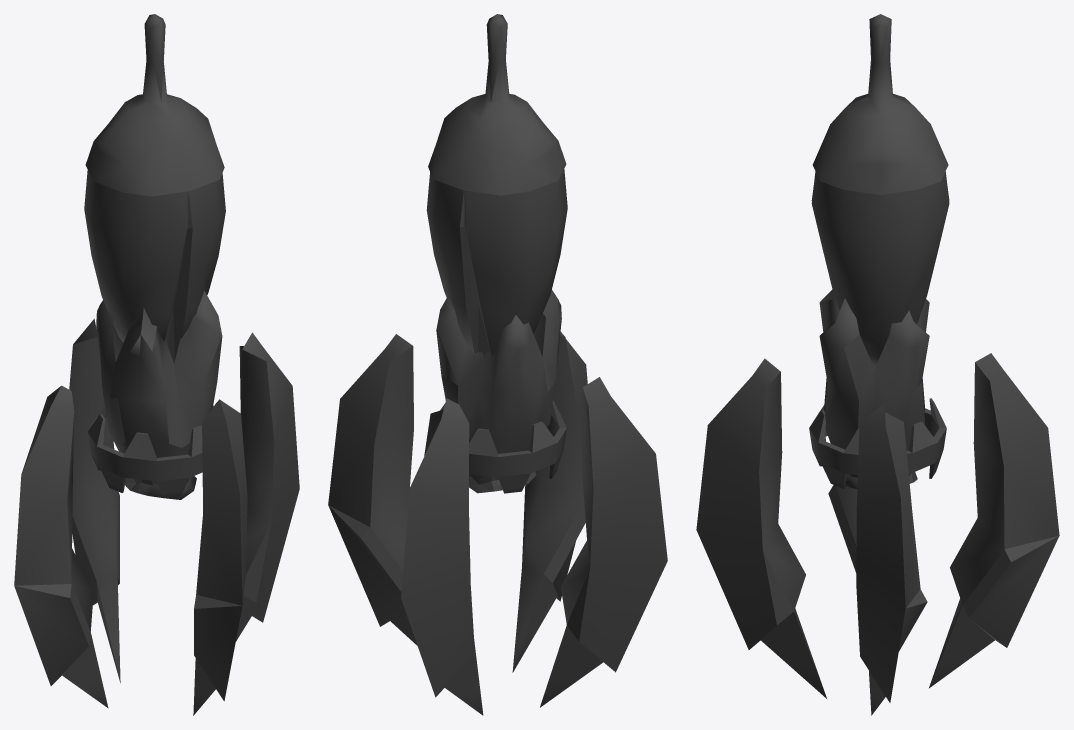
The model's file is Spaceship.FBX.
3 renders of one model, left to right at view 1: azimuth 30°, elevation 25°; view 2: azimuth 150°, elevation 25°; view 3: azimuth 270°, elevation 25°, orthographic.
Visible parts, largest first — view 1: Legs, Body, Rotator; view 2: Legs, Body, Rotator; view 3: Legs, Body, Rotator.
Part boxes in pixels (x1,y1,x2,y2): Legs: (14, 318, 299, 715); Body: (84, 14, 225, 499); Rotator: (87, 405, 213, 497); Legs: (328, 332, 667, 715); Body: (426, 14, 567, 493); Rotator: (440, 400, 566, 493); Legs: (696, 353, 1059, 715); Body: (811, 14, 949, 488); Rotator: (809, 398, 946, 488).
Size of the model in its own units: 21.01 by 43.88 by 21.24.
Materials: 1 (1 with a texture image).
